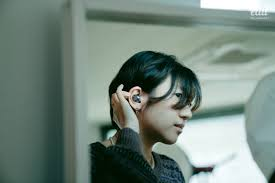earphone: (129, 86, 144, 110)
